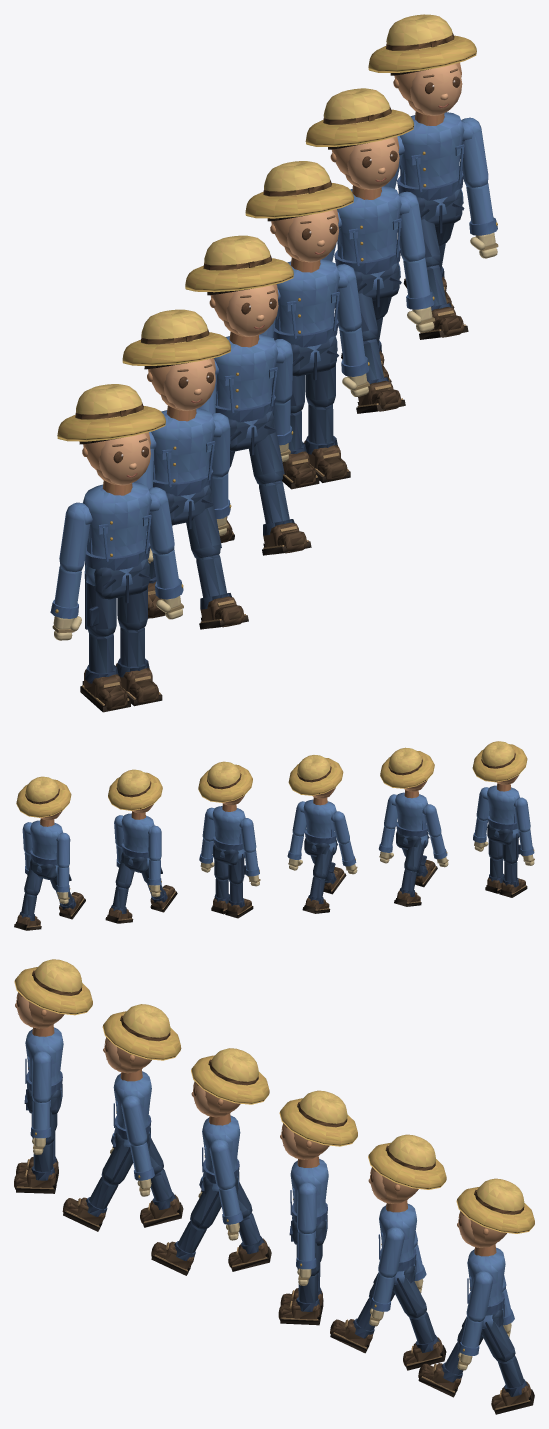
The model's file is ba-walk-tq-after.glb.
3 renders of one model, top to bottom at view 1: azimuth 30°, elevation 25°; view 2: azimuth 150°, elevation 25°; view 3: azimuth 270°, elevation 25°, orthographic. The views are drawn at different scales.
Parts seen in each view (by area): view 1: denimJacketTorso (×6), strawHat (×6), head (×6), leftShin (×4), leftUpperArm (×6), rightShin (×4), trouserHips (×6), leftThigh (×4), leftLowerArm (×4), rightUpperArm, rightThigh, rightLowerArm; view 2: strawHat (×6), denimJacketTorso (×6), rightShin (×6), leftShin (×6), rightUpperArm (×6), trouserHips (×6), leftUpperArm (×6), rightLowerArm (×6), rightThigh (×4), leftThigh (×4), leftLowerArm (×4); view 3: strawHat (×6), denimJacketTorso (×6), leftShin (×6), leftUpperArm (×6), rightShin (×4), head (×6), leftLowerArm (×6), leftThigh (×4).
Boxes of the visible parts, x1,y1,x2,y2 form: denimJacketTorso (×6): (83,111,464,586); strawHat (×6): (57,14,476,441); head (×6): (79,62,462,485); leftShin (×4): (115,404,350,706); leftUpperArm (×6): (147,117,488,554); rightShin (×4): (80,265,468,712); trouserHips (×6): (85,189,464,603); leftThigh (×4): (117,364,335,630); leftLowerArm (×4): (152,183,497,599); rightUpperArm: (59,502,92,571); rightThigh: (85,573,116,636); rightLowerArm: (50,565,81,618); strawHat (×6): (16,741,527,817); denimJacketTorso (×6): (30,783,519,873); rightShin (×6): (56,862,527,919); leftShin (×6): (14,858,504,930); rightUpperArm (×6): (56,797,530,867); trouserHips (×6): (30,823,519,879); leftUpperArm (×6): (22,787,489,854); rightLowerArm (×6): (56,829,534,892); rightThigh (×4): (228,833,520,884); leftThigh (×4): (24,839,502,895); leftLowerArm (×4): (199,818,487,863); strawHat (×6): (14,959,534,1233); denimJacketTorso (×6): (25,1025,505,1328); leftShin (×6): (14,1142,534,1414); leftUpperArm (×6): (31,1051,492,1321); rightShin (×4): (140,1168,462,1397); head (×6): (15,992,506,1247); leftLowerArm (×6): (30,1100,483,1355); leftThigh (×4): (101,1144,515,1362).
Size of what is drawn, in the model's own units: 6.12 by 2.42 by 5.15.
